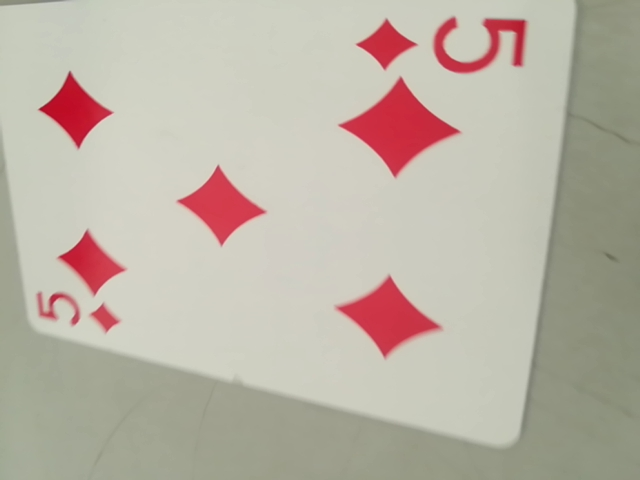fk 5: (352, 8, 532, 81), (28, 286, 124, 339)
